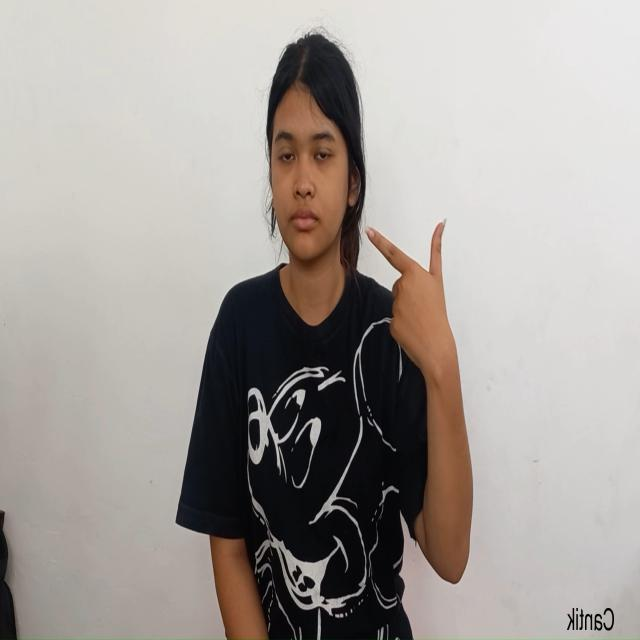Cantik -BISINDO-: (266, 31, 462, 397)
